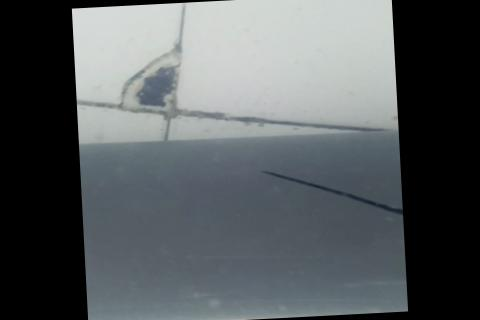keretakan: (260, 161, 403, 222)
